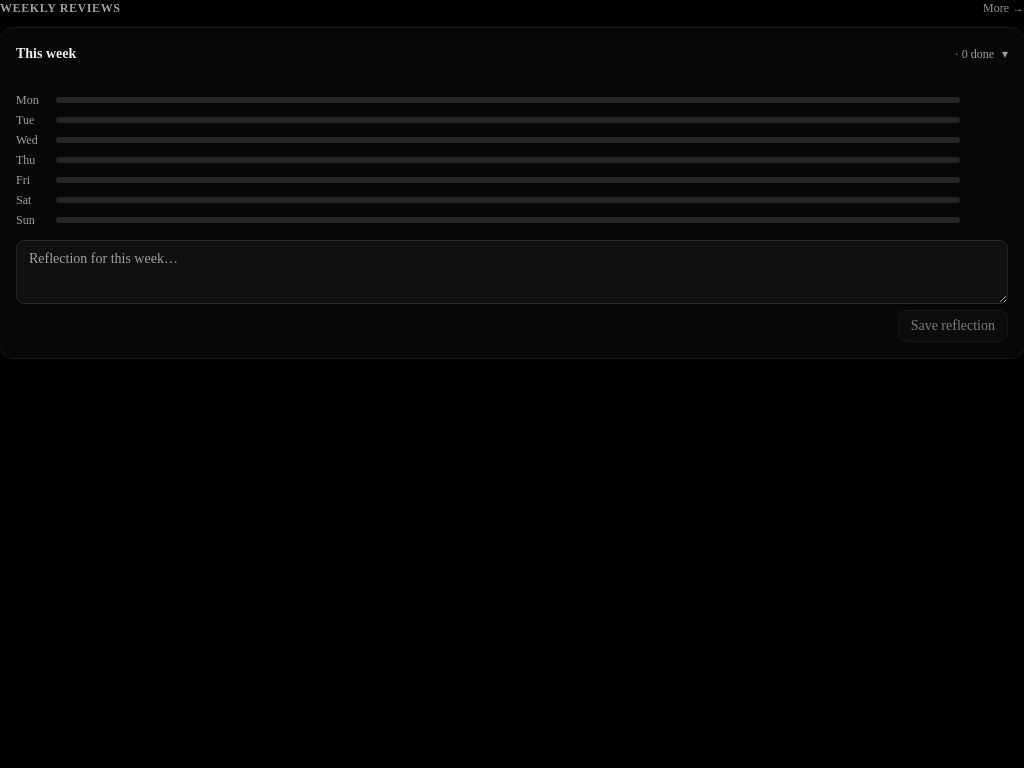
Test: WeeklyReviewLog › shows only the current week inline; past weeks live in the More timeline modal
The width and height of the screenshot is (1024, 768).
Expected: the heading "This week" is shown, [16,44,76,64]
Expected: the text "Week of Aug 10 – Aug 16" is not shown
// Open the timeline modal: every week (incl. the past one) is expanded with its metrics.
Click the button "More →" at x=1004, y=8, box [983,0,1023,16]
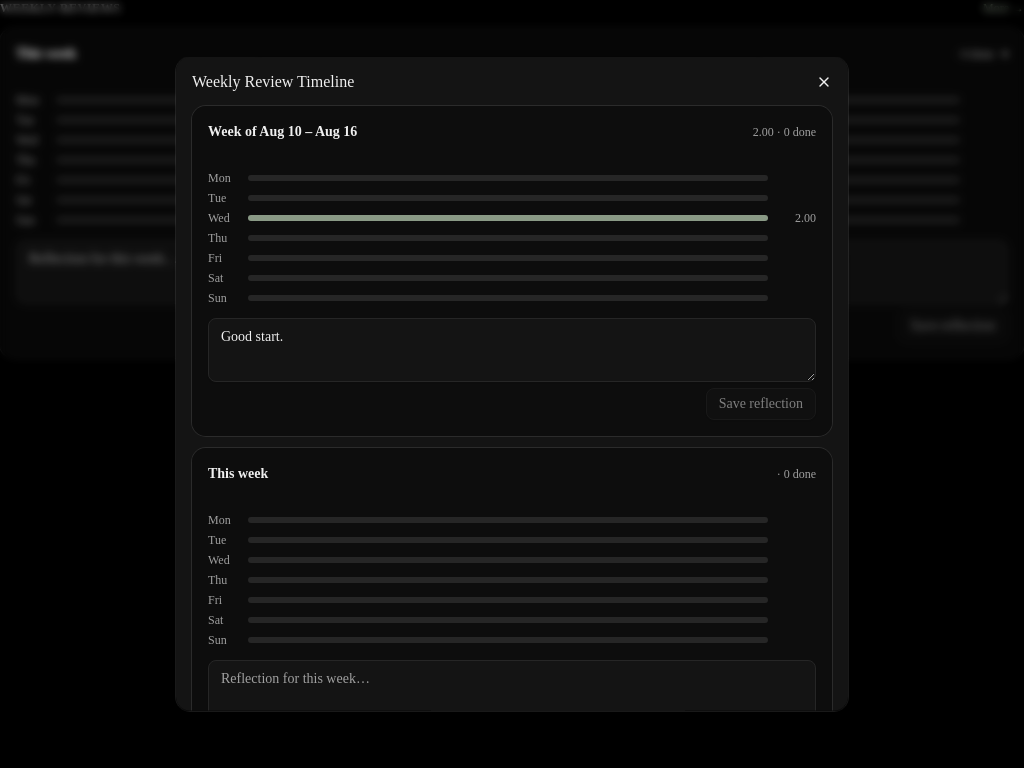
Now the heading "Weekly Review Timeline" is shown, box [192,73,354,90]
Now the heading "Week of Aug 10 – Aug 16" is shown, box [208,122,357,142]
Now the text "2.00 · 0 done" is shown, box [753,124,816,140]
